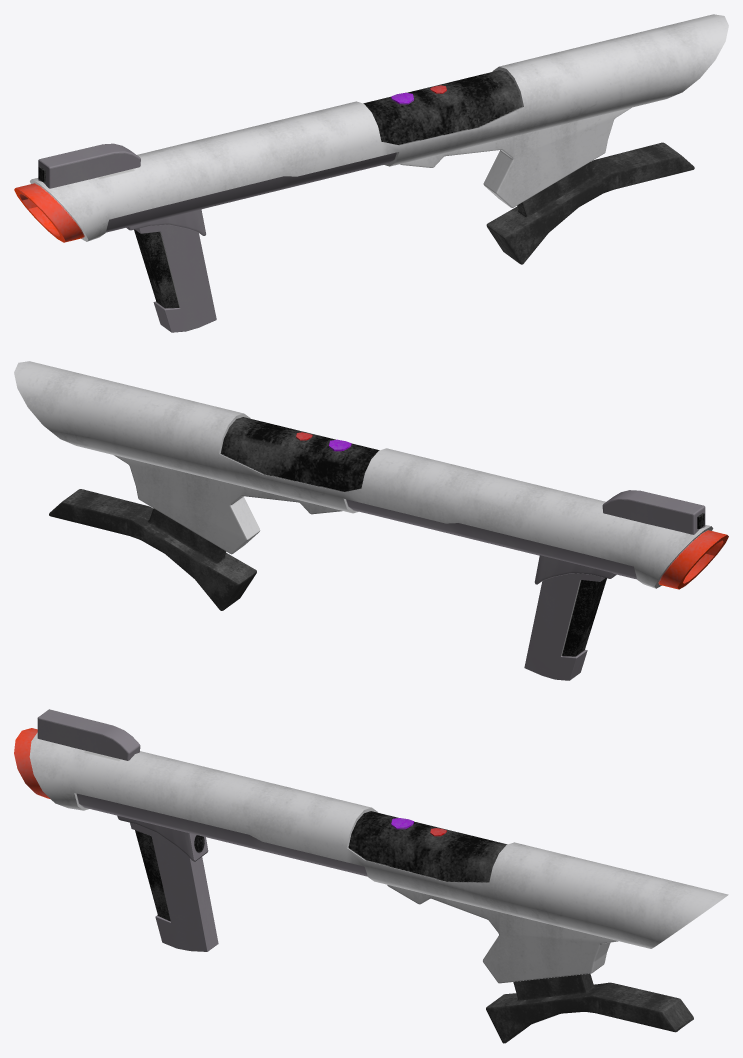
Rendered from super-scope.glb.
The picture shows the model from 3 angles, top to bottom: view 1: azimuth 30°, elevation 25°; view 2: azimuth 150°, elevation 25°; view 3: azimuth 330°, elevation 25°; orthographic projection.
Visible parts, largest first — view 1: Bazooka1; view 2: Bazooka1; view 3: Bazooka1.
Part boxes in pixels (bbox=[...]): Bazooka1: bbox=[14, 14, 728, 332]; Bazooka1: bbox=[14, 361, 728, 680]; Bazooka1: bbox=[14, 709, 728, 1043].
Bounding box in the file's own units: 11.7 × 3.34 × 1.2.
Materials: 1 (1 with a texture image).
